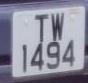1: (19, 42, 31, 76)
4: (61, 37, 79, 69), (29, 40, 46, 73)
9: (45, 39, 63, 73)
T: (32, 12, 50, 44)
W: (49, 9, 67, 42)
